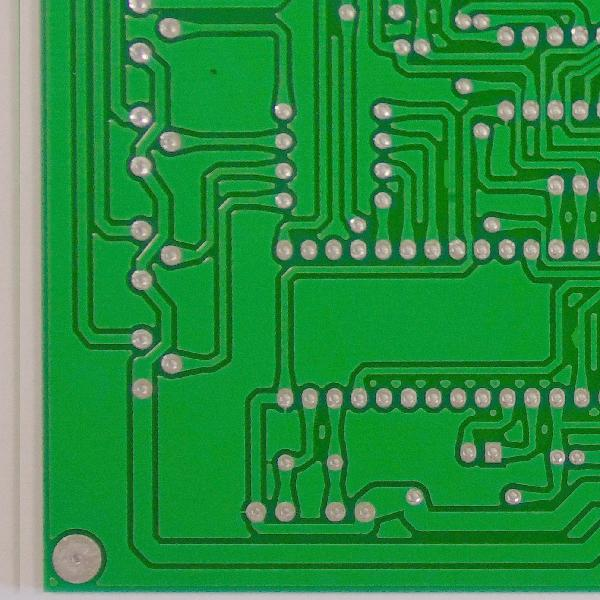spur: (439, 151, 454, 195), (564, 323, 584, 352)
